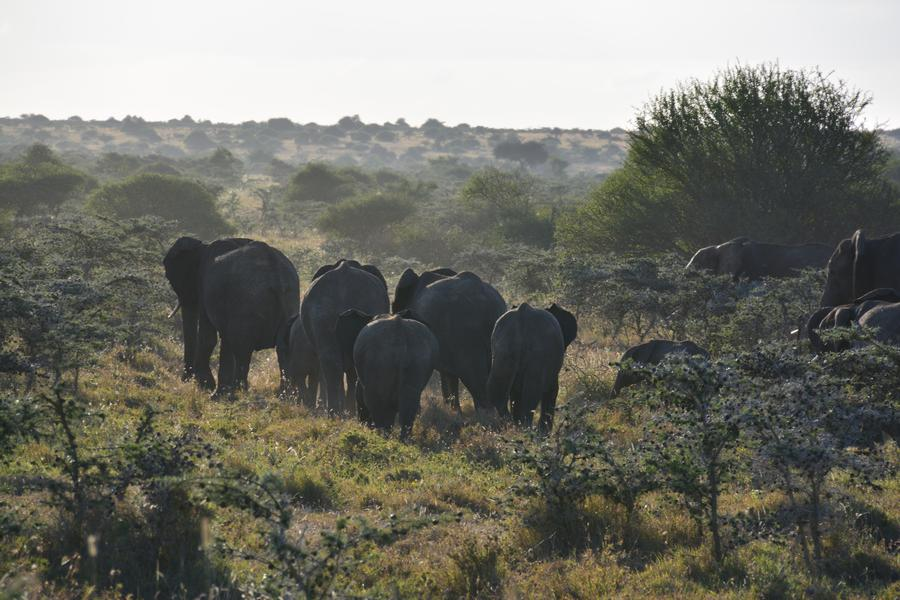elephant: (158, 231, 280, 351), (490, 305, 580, 421), (349, 312, 427, 430), (689, 231, 819, 280), (301, 255, 391, 311), (398, 265, 512, 304), (827, 229, 896, 289)
